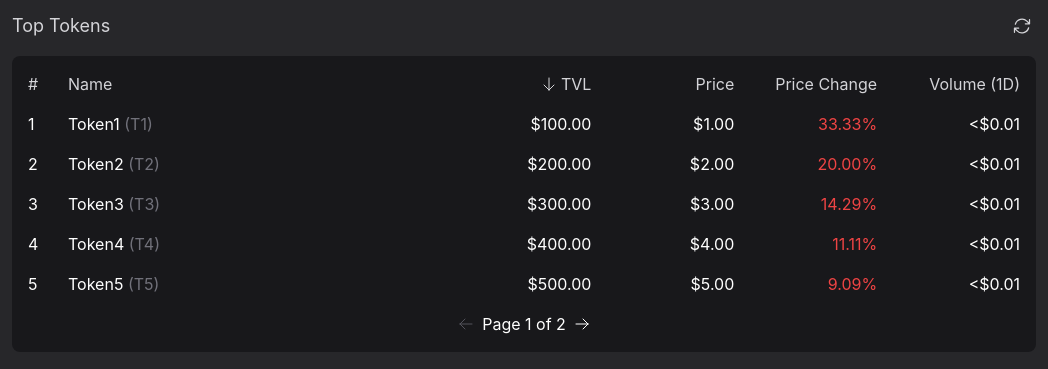
TokenTable › Token table sort works
The width and height of the screenshot is (1048, 369).
Expected: the text "Token1" is shown, [68,114,124,134]
Expected: the text "(T1)" is shown, [124,114,153,134]
Click the text "TVL" at (566,84), box [541,74,591,94]
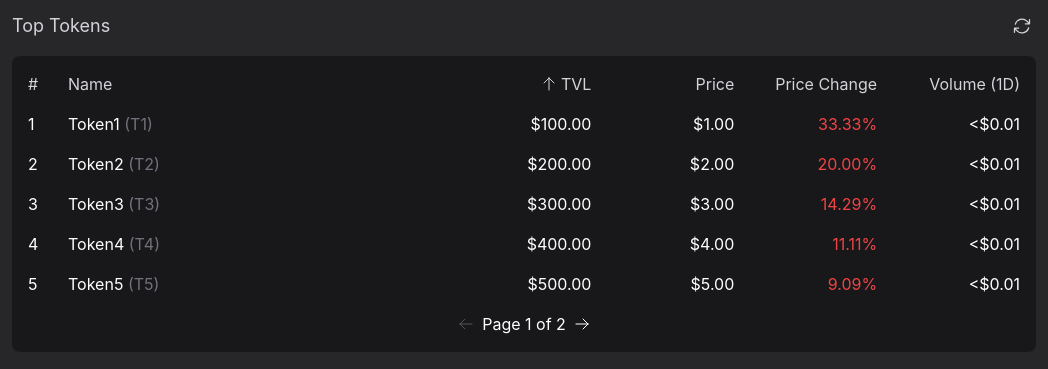
Click the text "TVL" at (566,84), box [541,74,591,94]
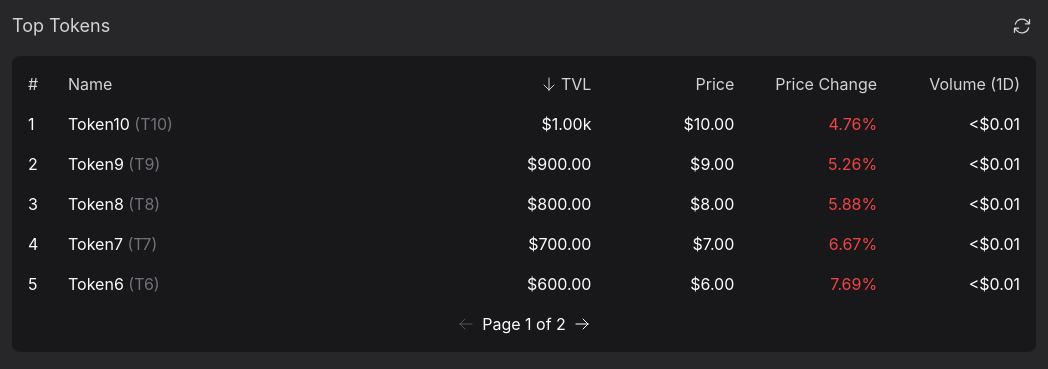
Now the text "Token10" is shown, box [68,114,134,134]
Now the text "(T10)" is shown, box [134,114,173,134]
Now the text "$1.00k" is shown, box [542,114,592,134]
Click the text "TVL" at (566,84), box [541,74,591,94]
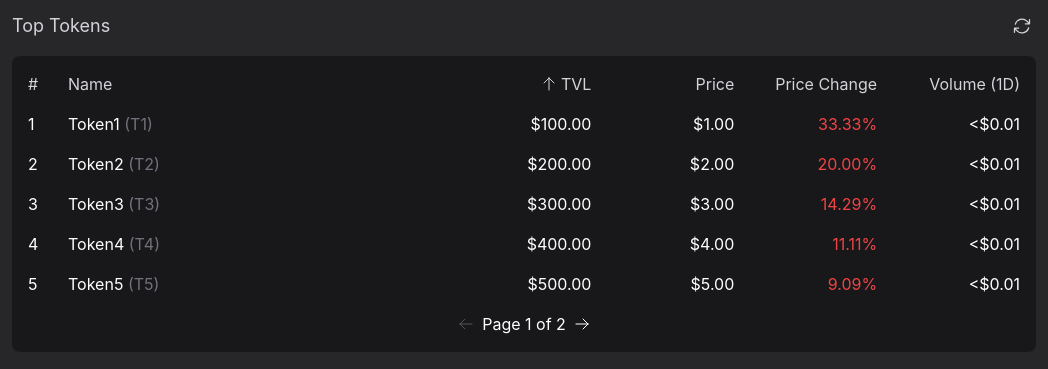
Expected: the text "Token1" is shown, [68,114,124,134]
Now the text "$100.00" is shown, box [530,114,592,134]
